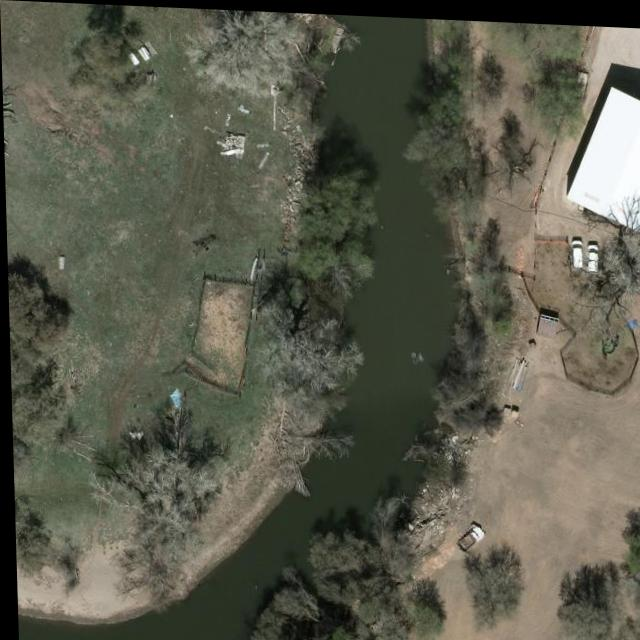vehicle: (452, 519, 483, 552), (587, 239, 600, 267), (571, 236, 582, 263)
